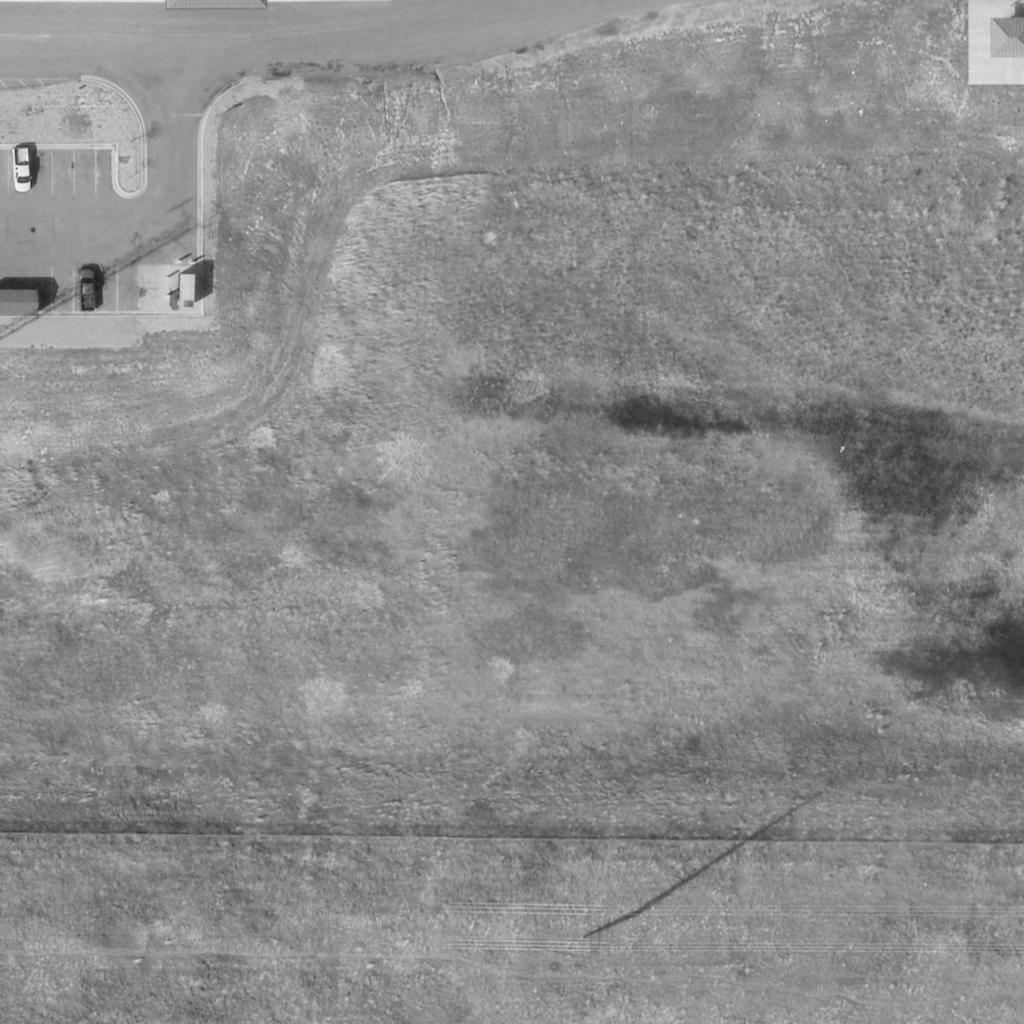vehicle: (78, 268, 98, 312), (13, 149, 31, 193)
